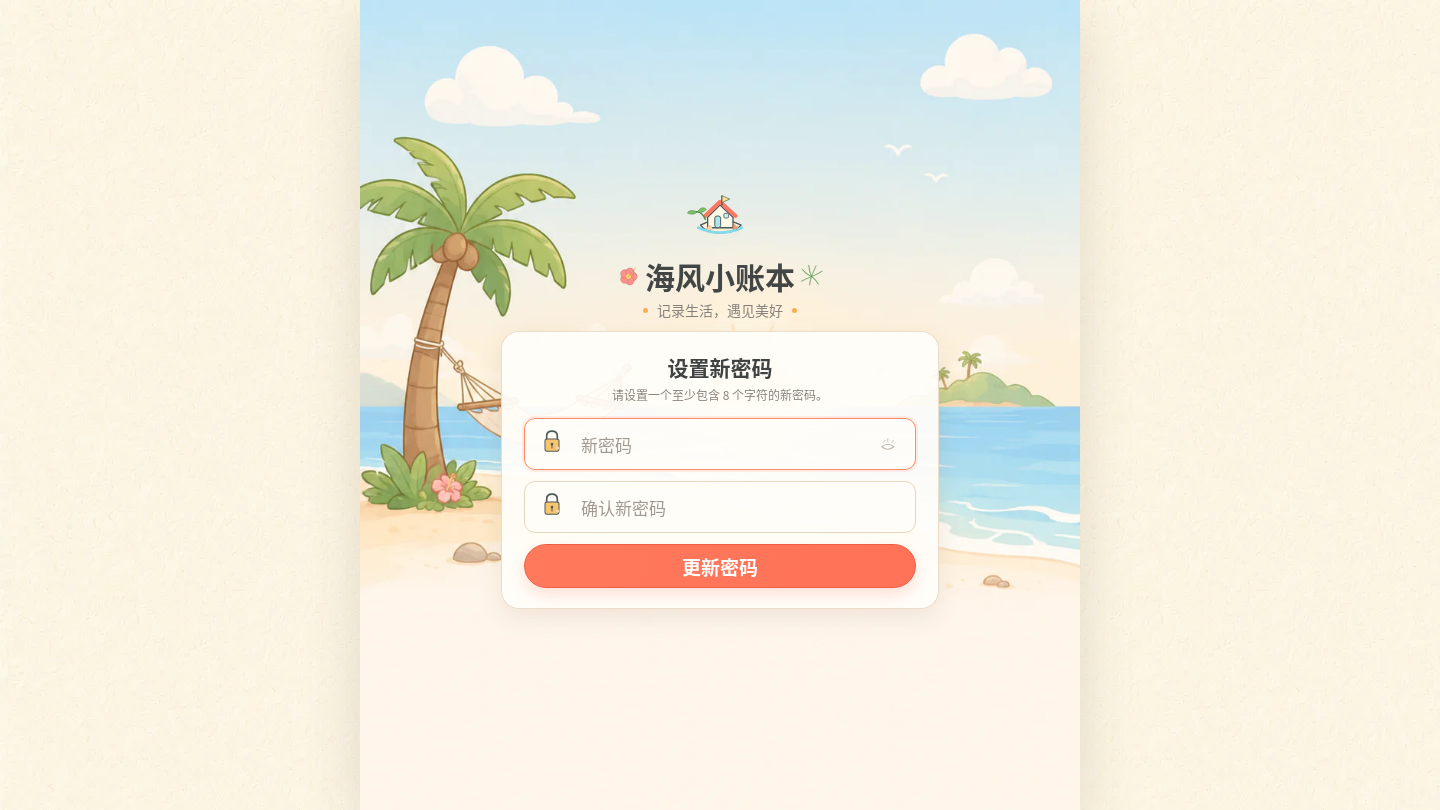
Test: AuthPage › requires a new password with at least eight characters
Step 1. Type "short" into the password field labelled "新密码" → (724, 444), box [577, 419, 871, 469]
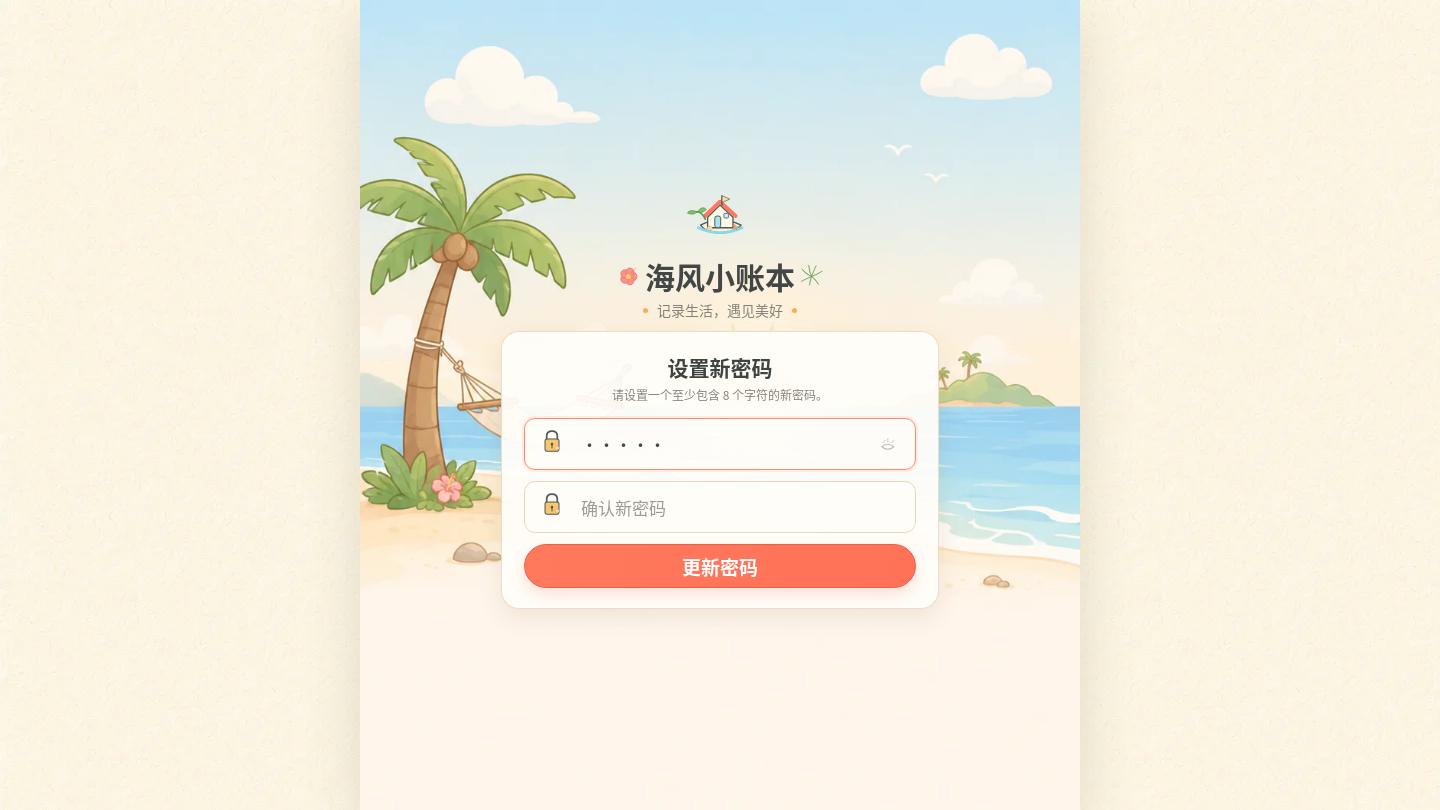
Step 2. Type "short" into the password field labelled "确认新密码" → (724, 507), box [577, 482, 871, 532]
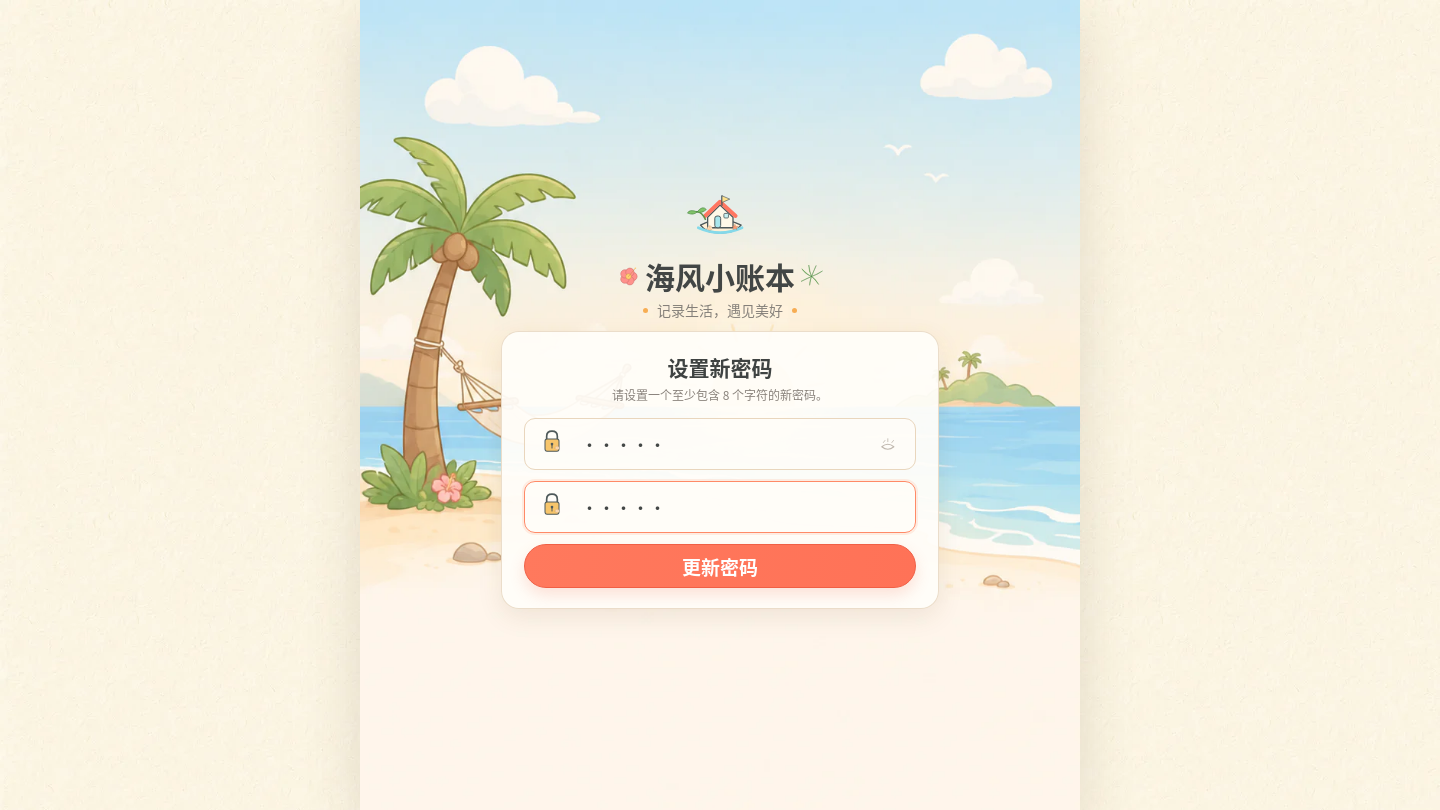
Step 3. Click the button "更新密码" → (720, 566), box [524, 544, 916, 588]
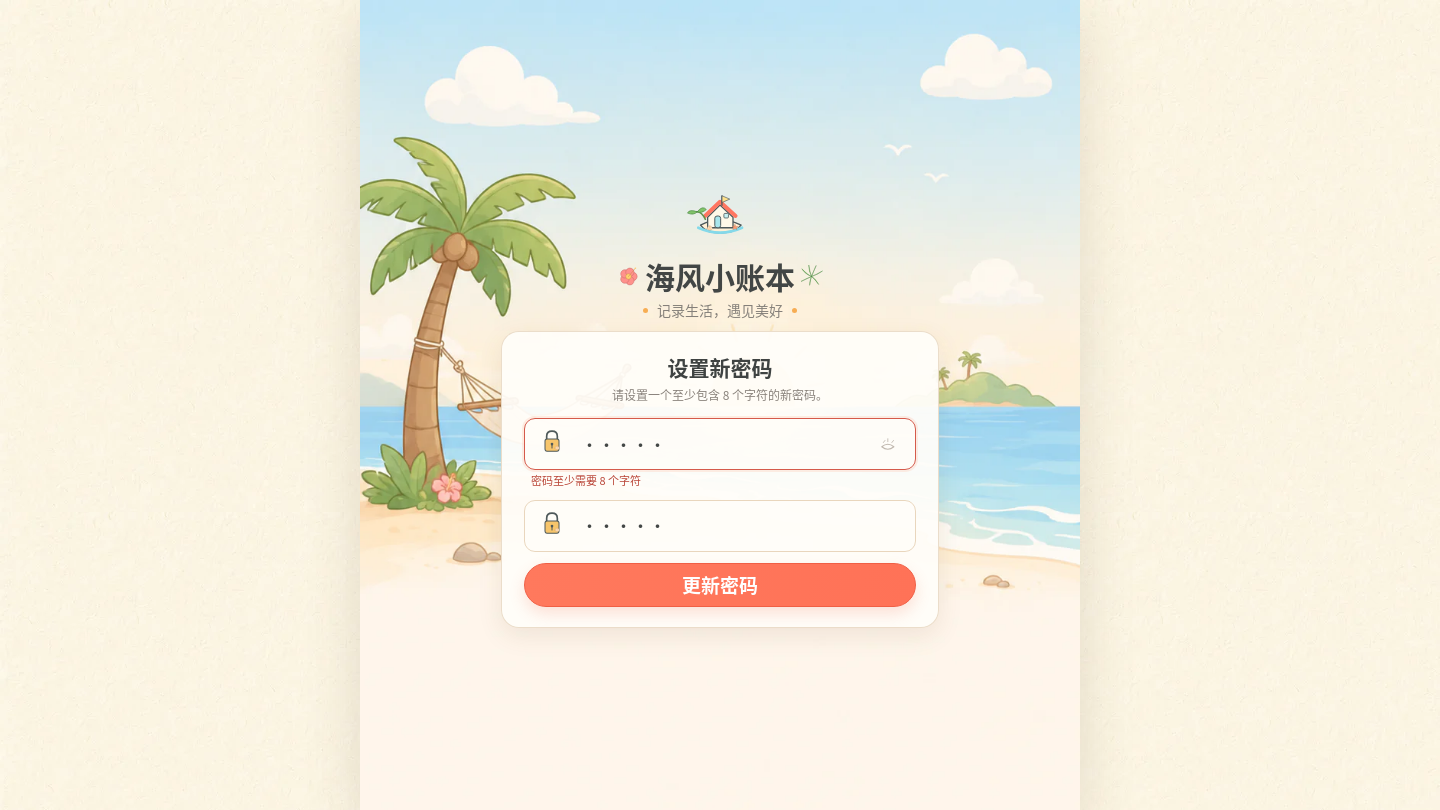
Result: the message reads "密码至少需要 8 个字符" at [531, 472, 641, 488]
